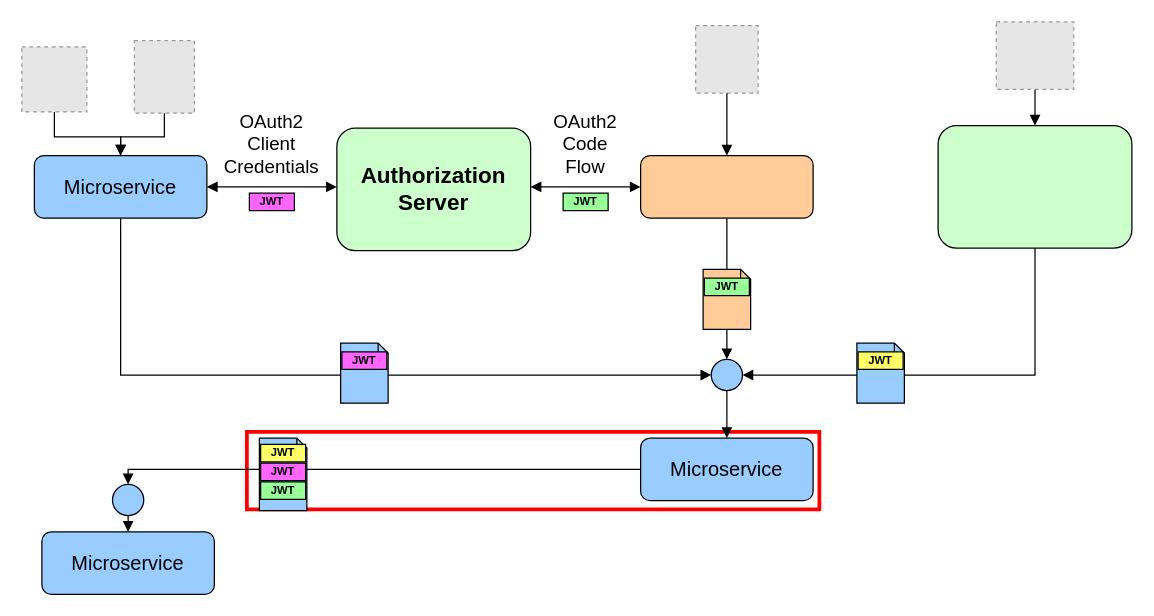
Image size: 1154x616. Some labels were removed from this diagram. Grey dashed boxes stand in for pictures. Here are the shapes that lost their labels. From the top down, the centre of each, then its label:
At point 726,186: "UI".
At point 1034,186: "API-Gateway".
